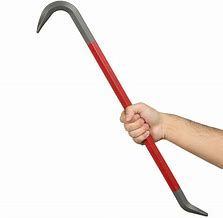crowbar: (35, 1, 210, 218)
